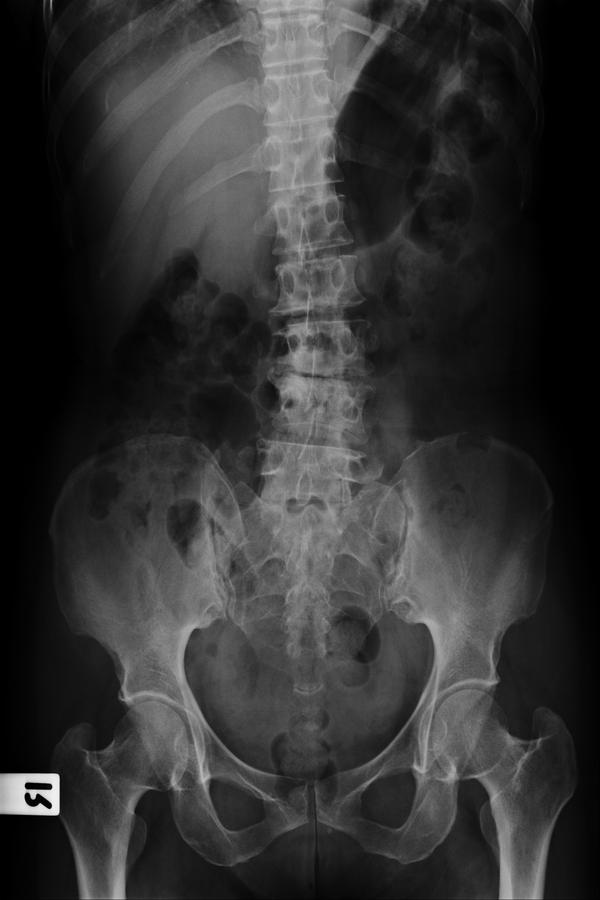lumbar scoliosis: (252, 120, 384, 596)
